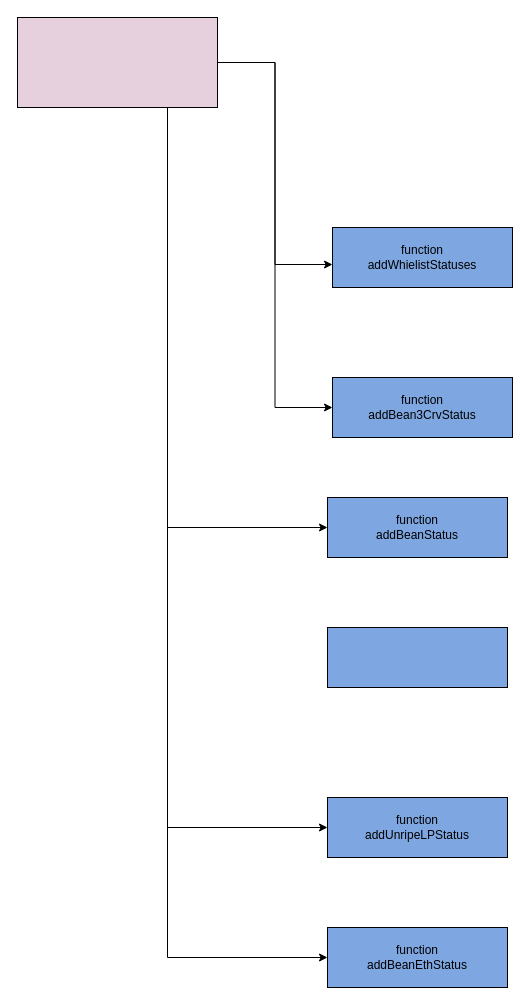
This 530x1005 diagram has some shape labels left out. Each missing label, with the centre of its shape:
Contract InitWhitelistStatuses: the point at 117,62
function addUnripeBeanStatus: the point at 417,657
